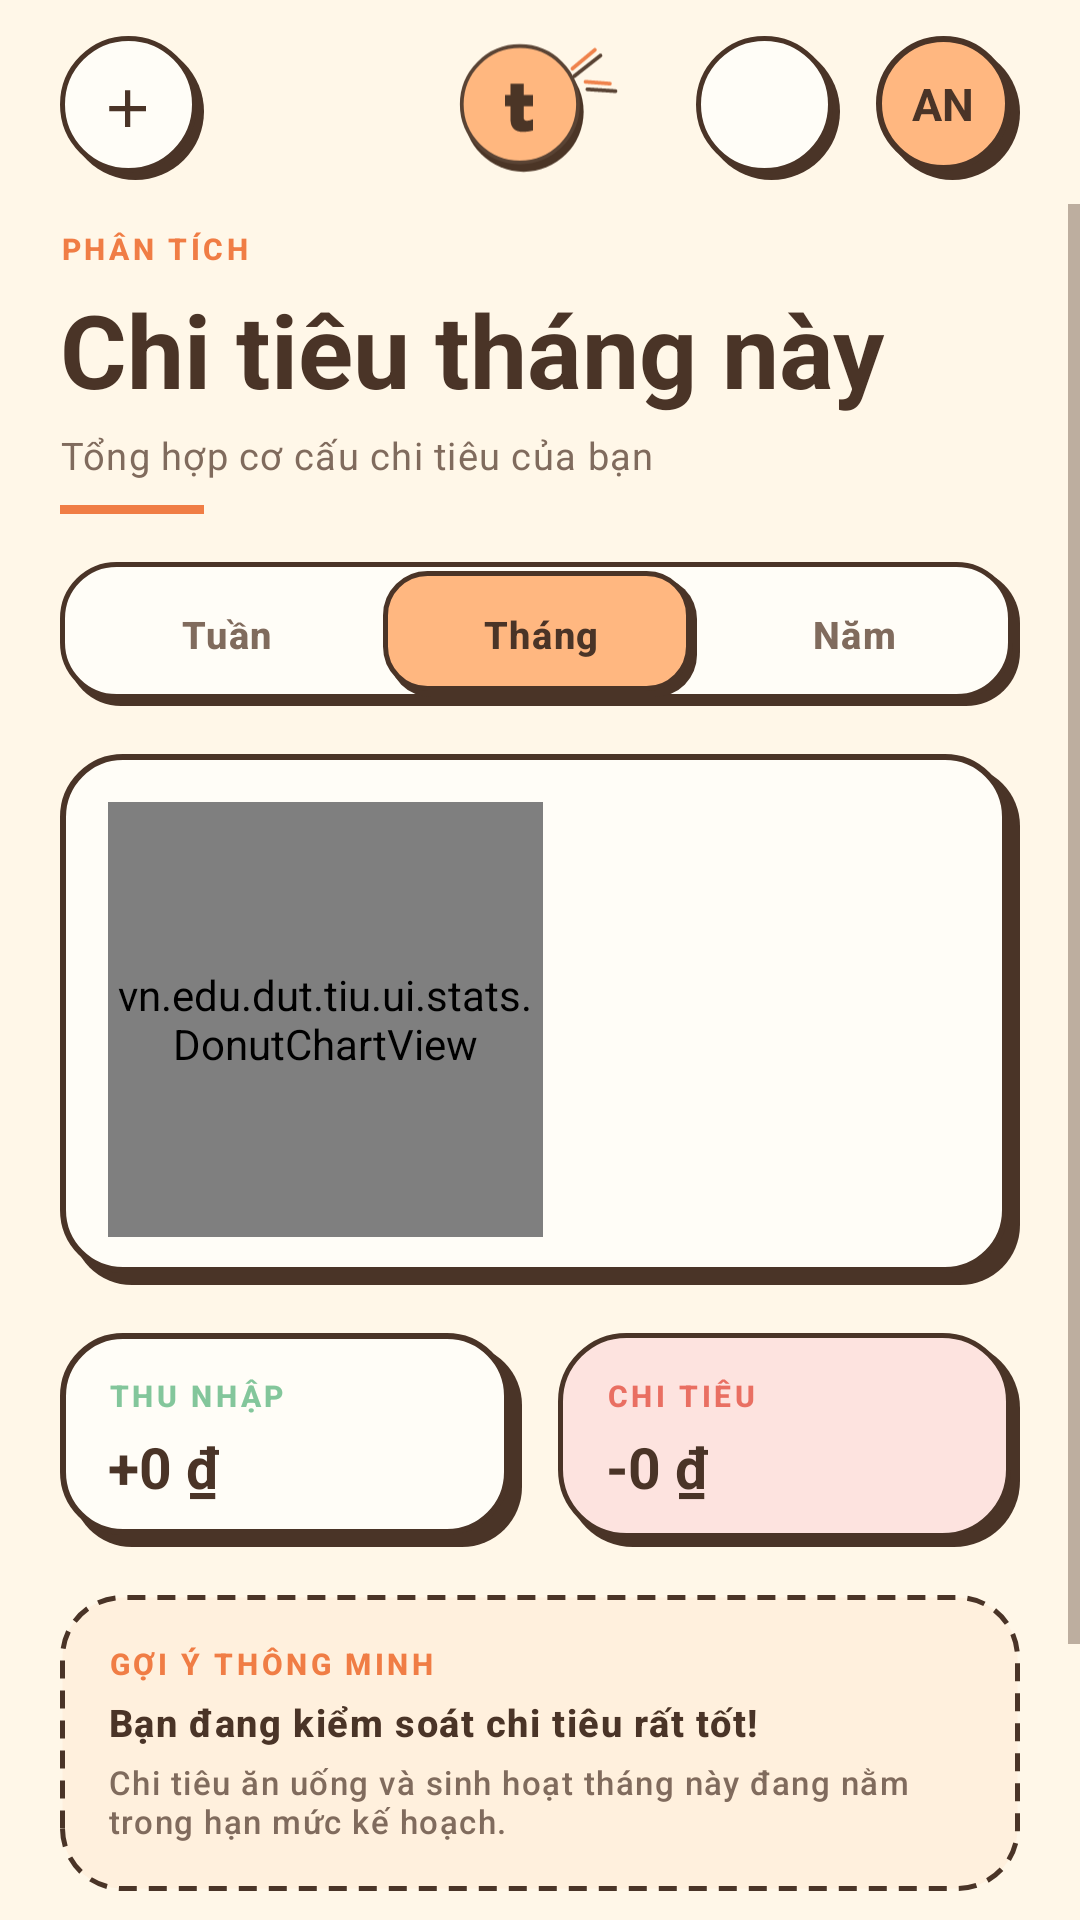

Named icons in this screenshot (1080px x 1920px) and their centers, [x,y]:
Thêm khoản chi: [132,108]
